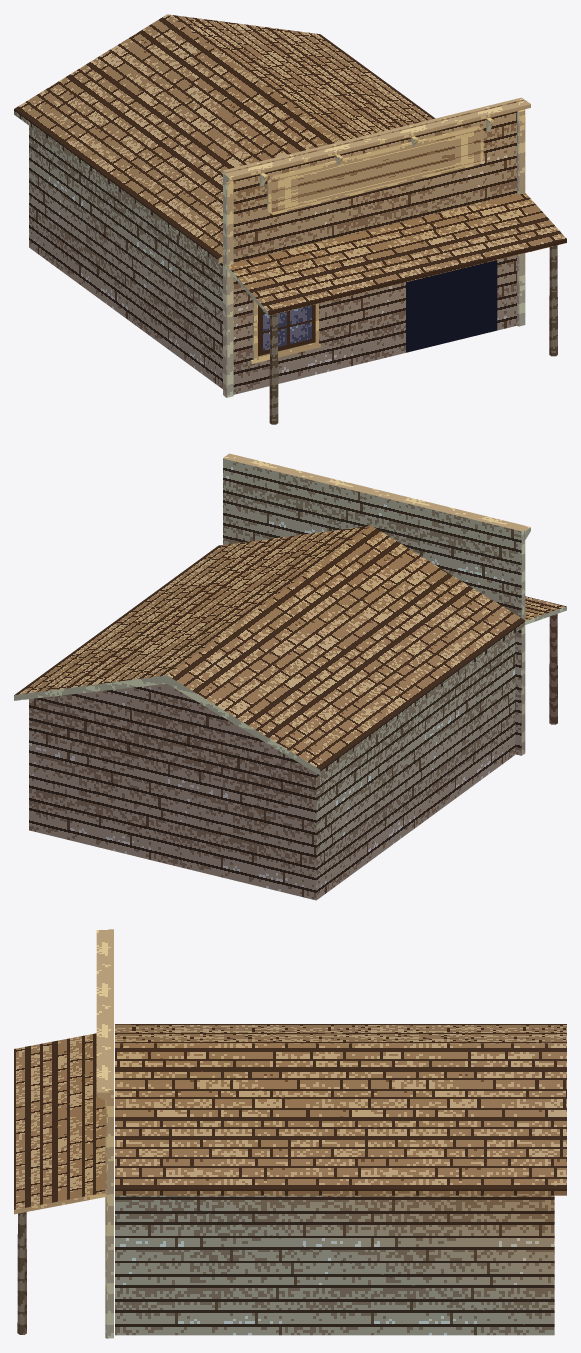
The model's file is wtown.store__entry.glb.
3 views of the same model, one above another, from view 1: azimuth 30°, elevation 25°; view 2: azimuth 150°, elevation 25°; view 3: azimuth 270°, elevation 25° (orthographic). The views are drawn at different scales.
Parts seen in each view (by area): view 1: kit_roof, kit_front, kit_body, kit_porch, kit_card_panes, kit_trim, kit_windows; view 2: kit_body, kit_roof, kit_front, kit_trim, kit_porch; view 3: kit_roof, kit_body, kit_porch, kit_trim, kit_front.
Boxes of the visible parts, x1,y1,x2,y2 form: kit_roof: (14,14,435,264); kit_front: (223,97,524,395); kit_body: (29,126,222,388); kit_porch: (226,193,566,424); kit_card_panes: (258,129,497,356); kit_trim: (223,100,530,397); kit_windows: (250,299,321,363); kit_body: (29,633,515,900); kit_roof: (14,525,524,775); kit_front: (223,456,524,755); kit_trim: (224,453,530,754); kit_porch: (525,596,566,724); kit_roof: (115,1024,566,1195); kit_body: (115,1195,554,1335); kit_porch: (14,1033,105,1334); kit_trim: (96,930,109,1338); kit_front: (108,929,113,1338).
Size of the model in its own units: 8 by 5.6 by 11.32.
7 materials, 7 textured.
